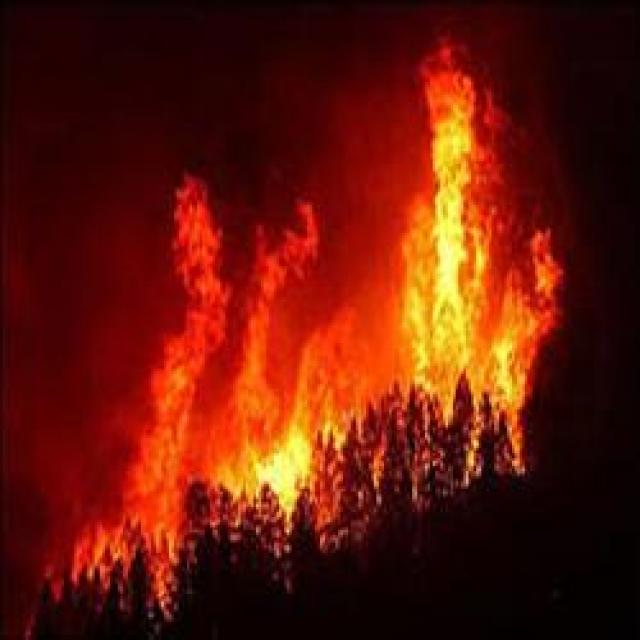fire: (71, 37, 562, 555)
